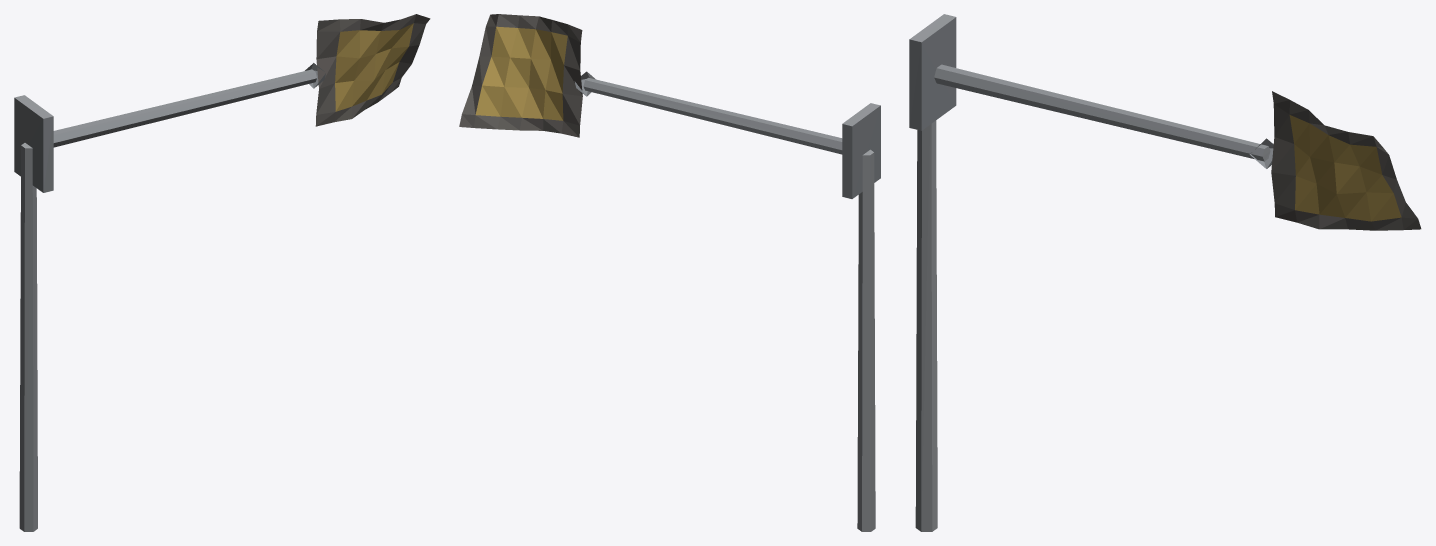
Rendered from flag.square.huangqi__pole.horizontal.big__armFly.glb.
The picture shows the model from 3 angles, left to right: view 1: azimuth 30°, elevation 25°; view 2: azimuth 150°, elevation 25°; view 3: azimuth 330°, elevation 25°; orthographic projection. The views are drawn at different scales.
Parts seen in each view (by area): view 1: flag.square.huangqi; view 2: flag.square.huangqi; view 3: flag.square.huangqi.
Part boxes in pixels (<box>): flag.square.huangqi: <box>14,14,430,531</box>; flag.square.huangqi: <box>459,14,880,531</box>; flag.square.huangqi: <box>909,14,1421,531</box>.
Bounding box in the file's own units: 3.49 × 3.65 × 0.5588.
